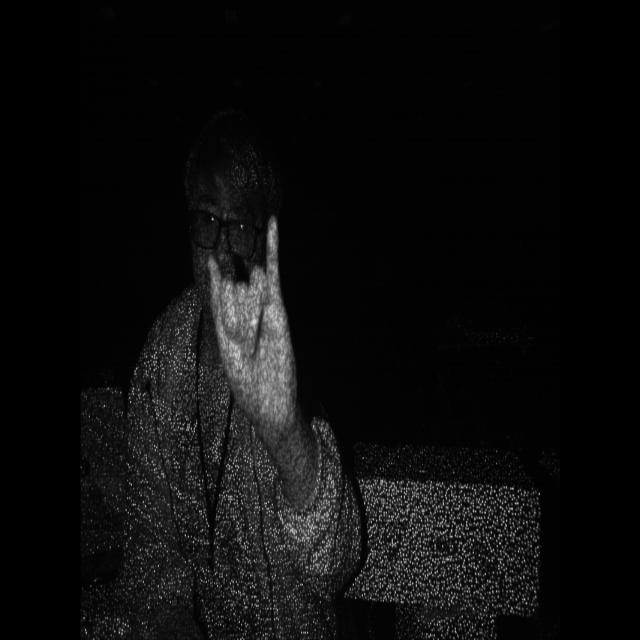I: (199, 203, 304, 440)
